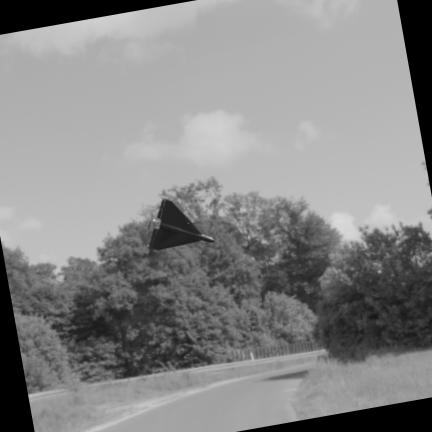Shahed: (149, 199, 215, 250)
